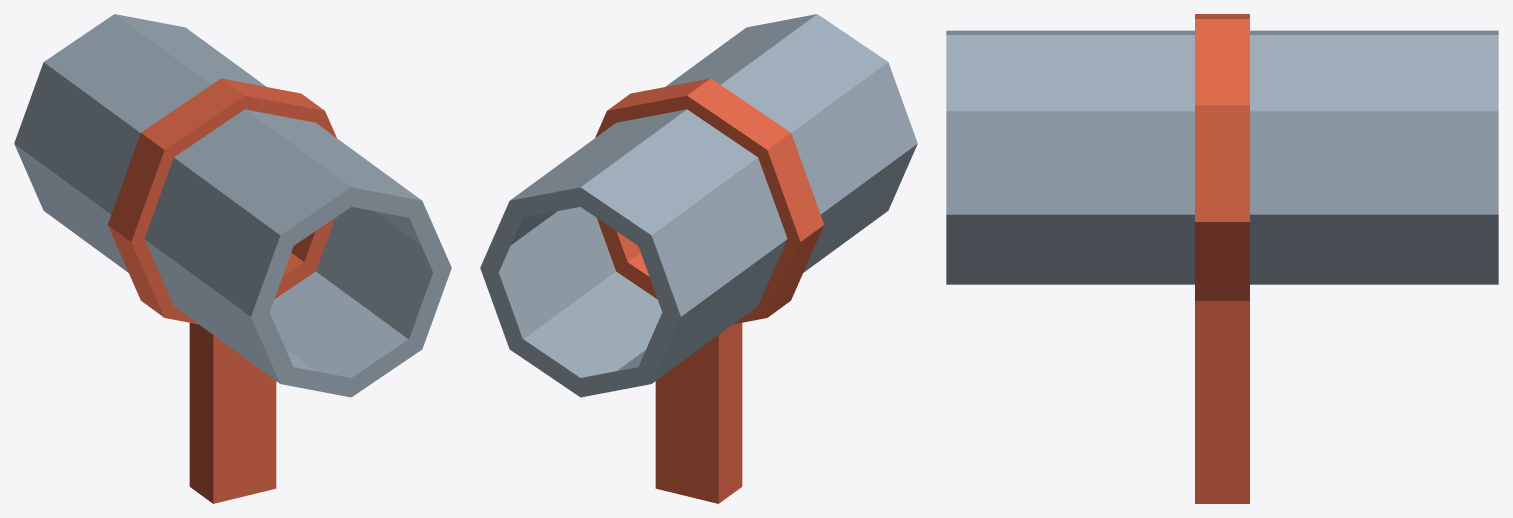
Rendered from pipeStandStraightLiner.fbx.
The picture shows the model from 3 angles, left to right: view 1: azimuth 30°, elevation 25°; view 2: azimuth 150°, elevation 25°; view 3: azimuth 270°, elevation 25°; orthographic projection. The views are drawn at different scales.
Parts seen in each view (by area): view 1: pipeStandStraightLiner; view 2: pipeStandStraightLiner; view 3: pipeStandStraightLiner.
Boxes of the visible parts, x1,y1,x2,y2 form: pipeStandStraightLiner: [14, 14, 451, 503]; pipeStandStraightLiner: [480, 14, 917, 503]; pipeStandStraightLiner: [946, 14, 1498, 503].
Size of the model in its own units: 5.53 by 9.33 by 10.
